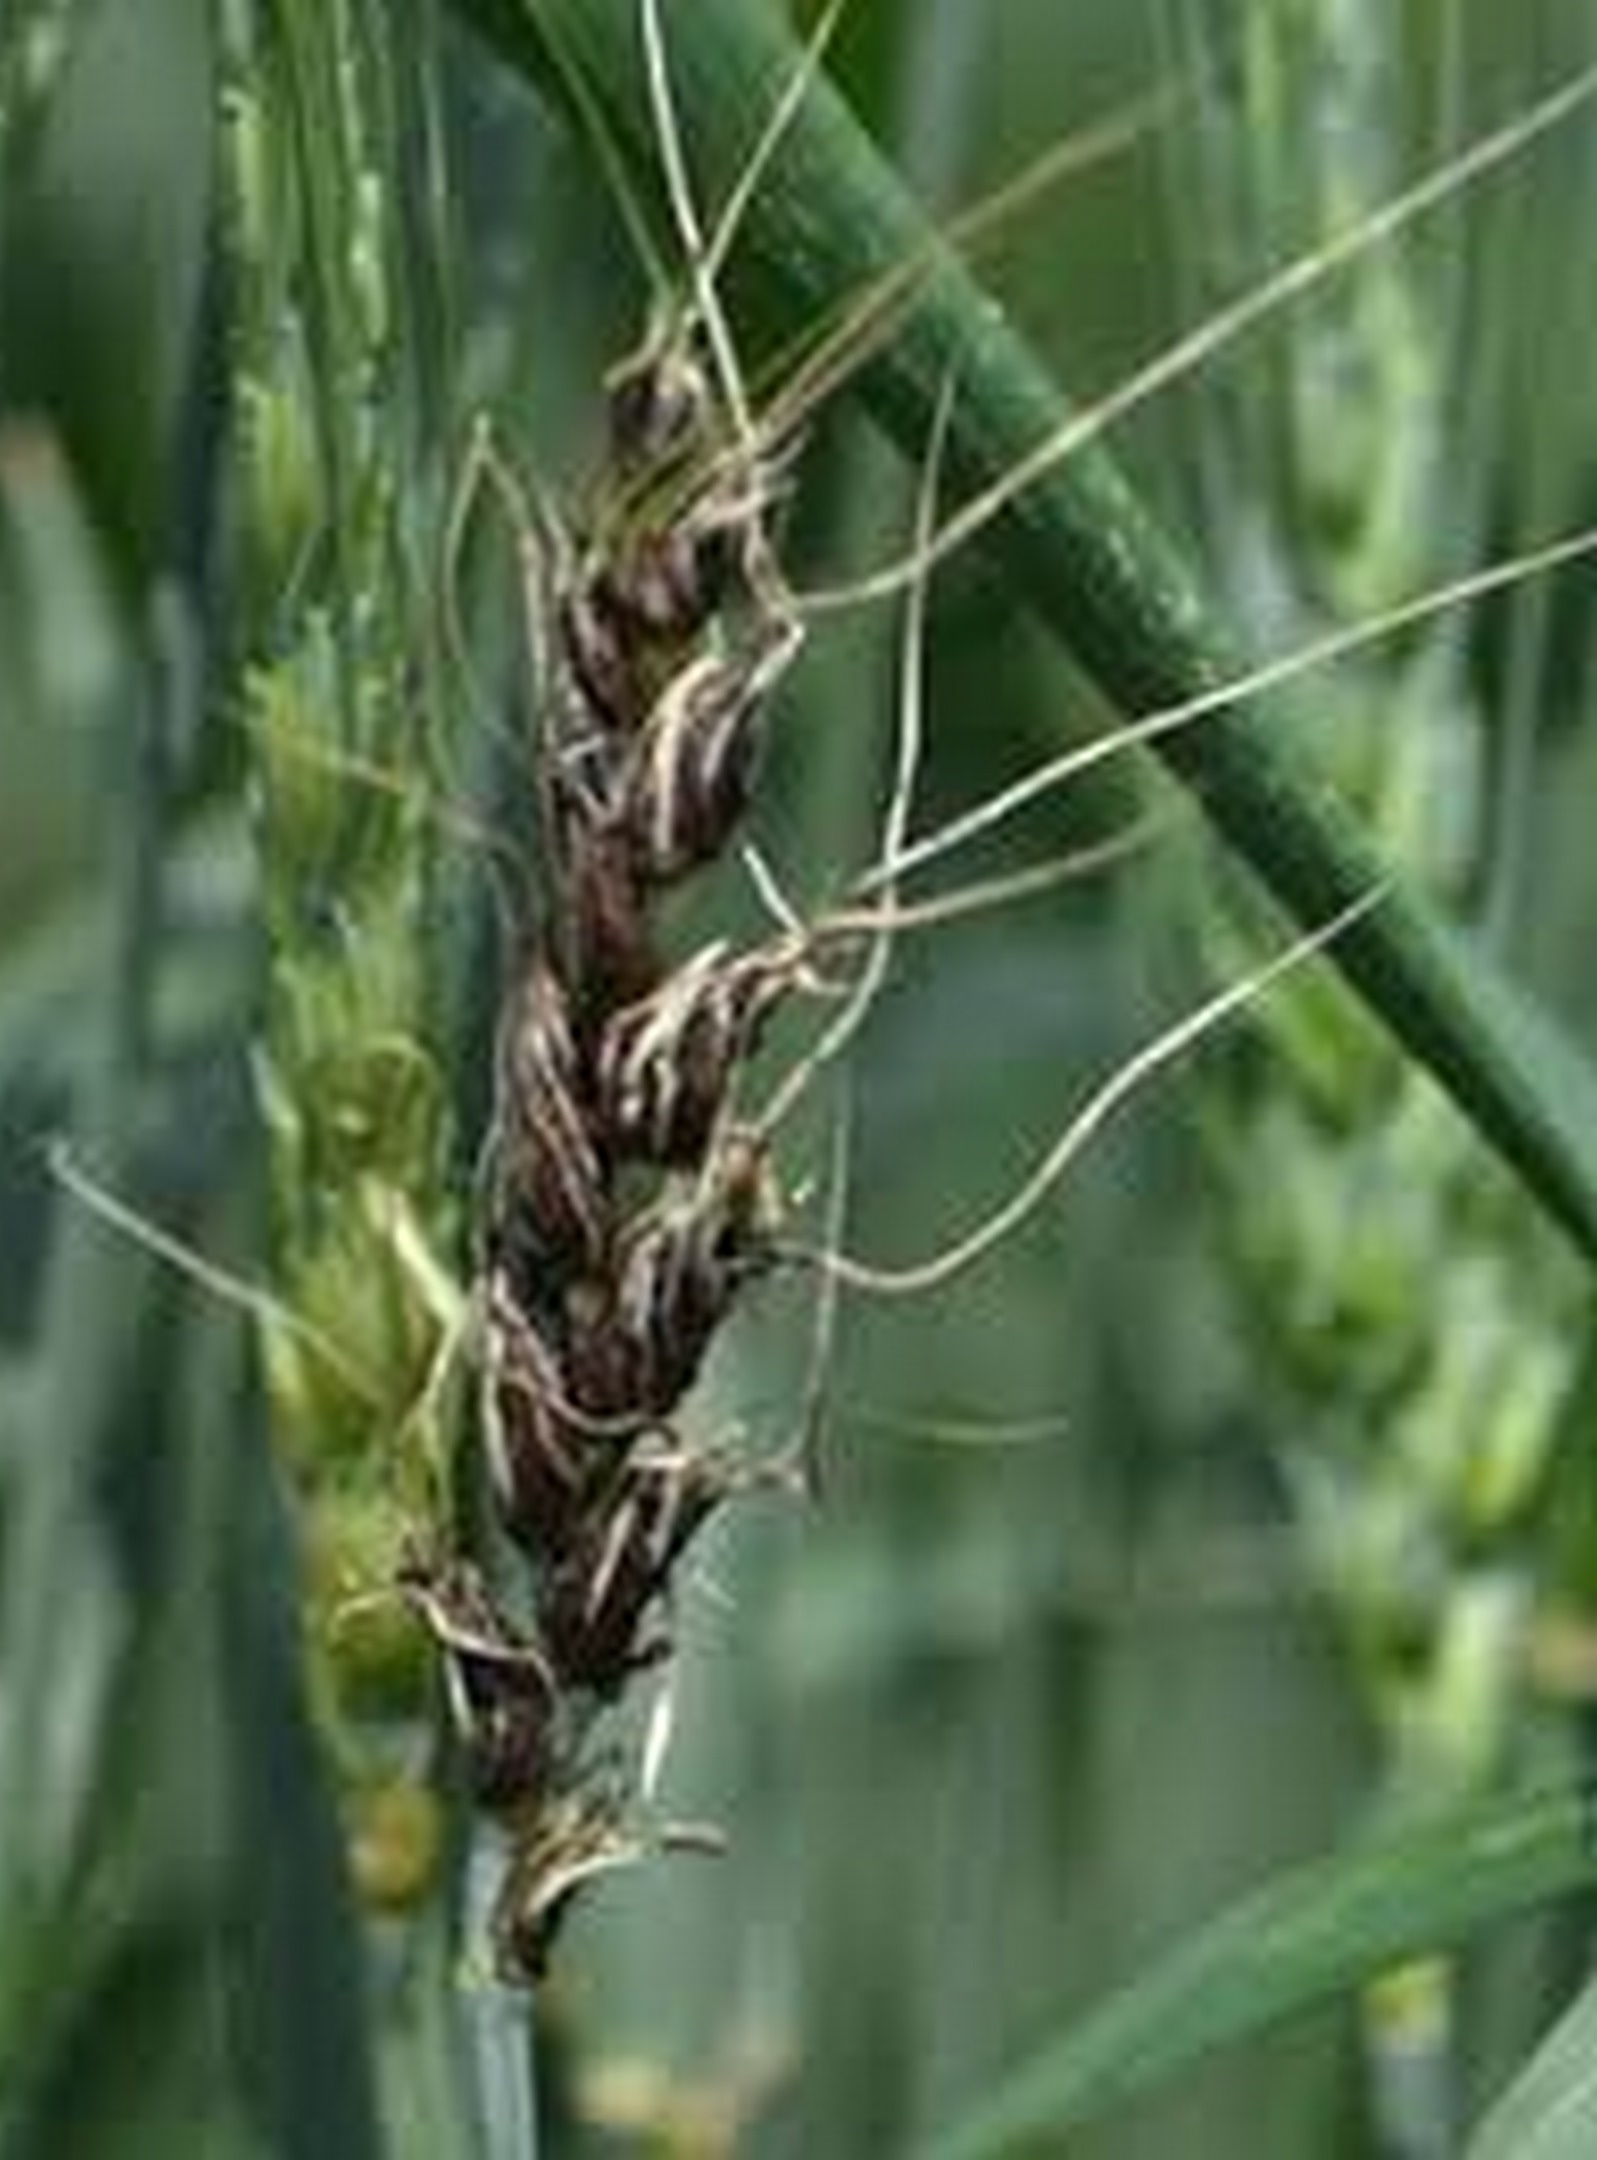Wheat Loose Smut: (436, 345, 834, 1721)
